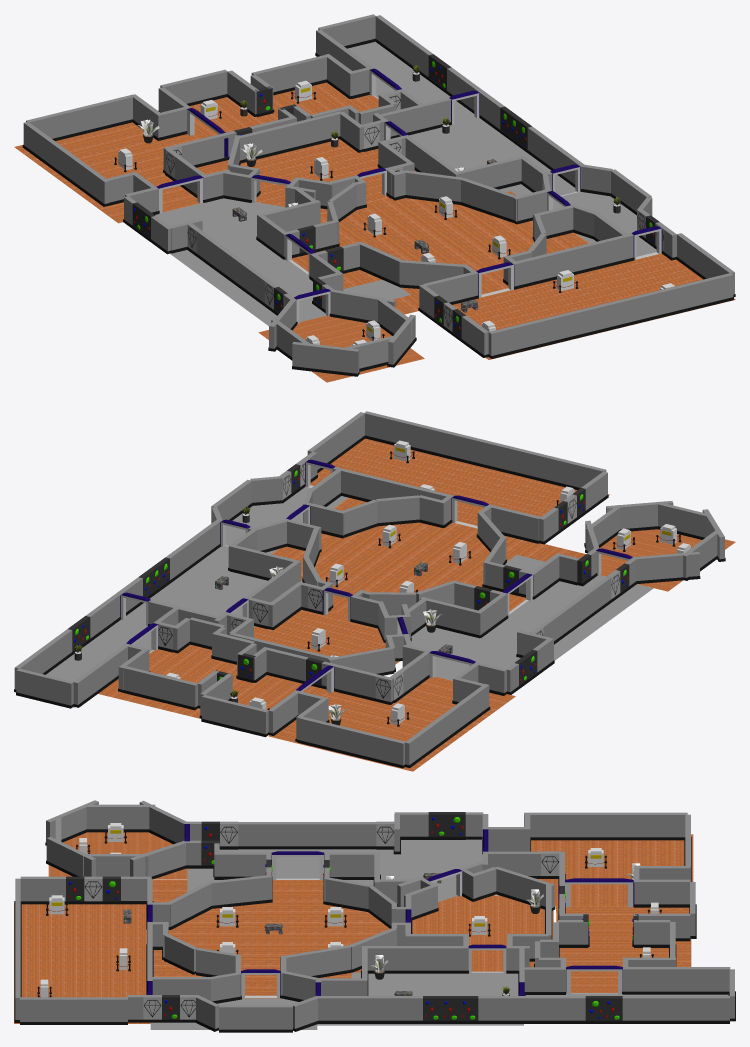
File: level_1.fbx
The picture shows the model from 3 angles, top to bottom: view 1: azimuth 30°, elevation 25°; view 2: azimuth 150°, elevation 25°; view 3: azimuth 270°, elevation 25°; orthographic projection.
Visible parts, largest first — view 1: Floor.007, Floor.004, Floor.009, WallNormal.011, Floor.003, Floor.006, Floor.001, WallNormal.015, Floor.002, WallNormal.086, WallNormal.068, WallNormal.067 (+50 smaller); view 2: Floor.007, Floor.009, Floor.004, WallNormal.011, Floor.003, Floor.002, Floor.001, Floor.006, WallNormal.067, WallNormal.068, Floor, WallNormal.055 (+47 smaller); view 3: Floor.007, Floor.009, Floor.004, Floor.003, Floor.002, Floor.006, WallNormal.068, WallNormal.087, Floor.001, WallNormal.002, WallNormal.004, WallNormal.010 (+78 smaller).
Boxes of the visible parts, x1=… form: Floor.007: x1=292, y1=191, x2=589, y2=314; Floor.004: x1=155, y1=198, x2=410, y2=325; Floor.009: x1=452, y1=253, x2=735, y2=359; WallNormal.011: x1=488, y1=273, x2=733, y2=358; Floor.003: x1=14, y1=122, x2=228, y2=223; Floor.006: x1=208, y1=139, x2=416, y2=213; Floor.001: x1=409, y1=116, x2=576, y2=195; WallNormal.015: x1=511, y1=233, x2=634, y2=289; Floor.002: x1=190, y1=82, x2=378, y2=160; WallNormal.086: x1=237, y1=111, x2=342, y2=163; WallNormal.068: x1=22, y1=121, x2=109, y2=206; WallNormal.067: x1=26, y1=94, x2=132, y2=141; Floor.007: x1=272, y1=497, x2=585, y2=615; Floor.009: x1=310, y1=438, x2=609, y2=525; Floor.004: x1=411, y1=555, x2=653, y2=680; WallNormal.011: x1=364, y1=411, x2=606, y2=490; Floor.003: x1=268, y1=676, x2=515, y2=771; Floor.002: x1=98, y1=644, x2=327, y2=735; Floor.001: x1=124, y1=546, x2=301, y2=624; Floor.006: x1=254, y1=610, x2=399, y2=664; WallNormal.067: x1=297, y1=716, x2=404, y2=768; WallNormal.068: x1=405, y1=684, x2=490, y2=767; Floor: x1=46, y1=619, x2=152, y2=707; WallNormal.055: x1=123, y1=666, x2=197, y2=710; Floor.007: x1=152, y1=879, x2=389, y2=998; Floor.009: x1=14, y1=902, x2=150, y2=1023; Floor.004: x1=187, y1=839, x2=482, y2=902; Floor.003: x1=531, y1=834, x2=693, y2=906; Floor.002: x1=556, y1=906, x2=691, y2=992; Floor.006: x1=412, y1=895, x2=553, y2=971; WallNormal.068: x1=524, y1=812, x2=687, y2=840; WallNormal.087: x1=238, y1=822, x2=376, y2=849; Floor.001: x1=317, y1=972, x2=523, y2=1025; WallNormal.002: x1=622, y1=996, x2=729, y2=1023; WallNormal.004: x1=478, y1=996, x2=585, y2=1023; WallNormal.010: x1=20, y1=997, x2=127, y2=1024.
Size of the model in its own units: 6408 by 385 by 9408.
